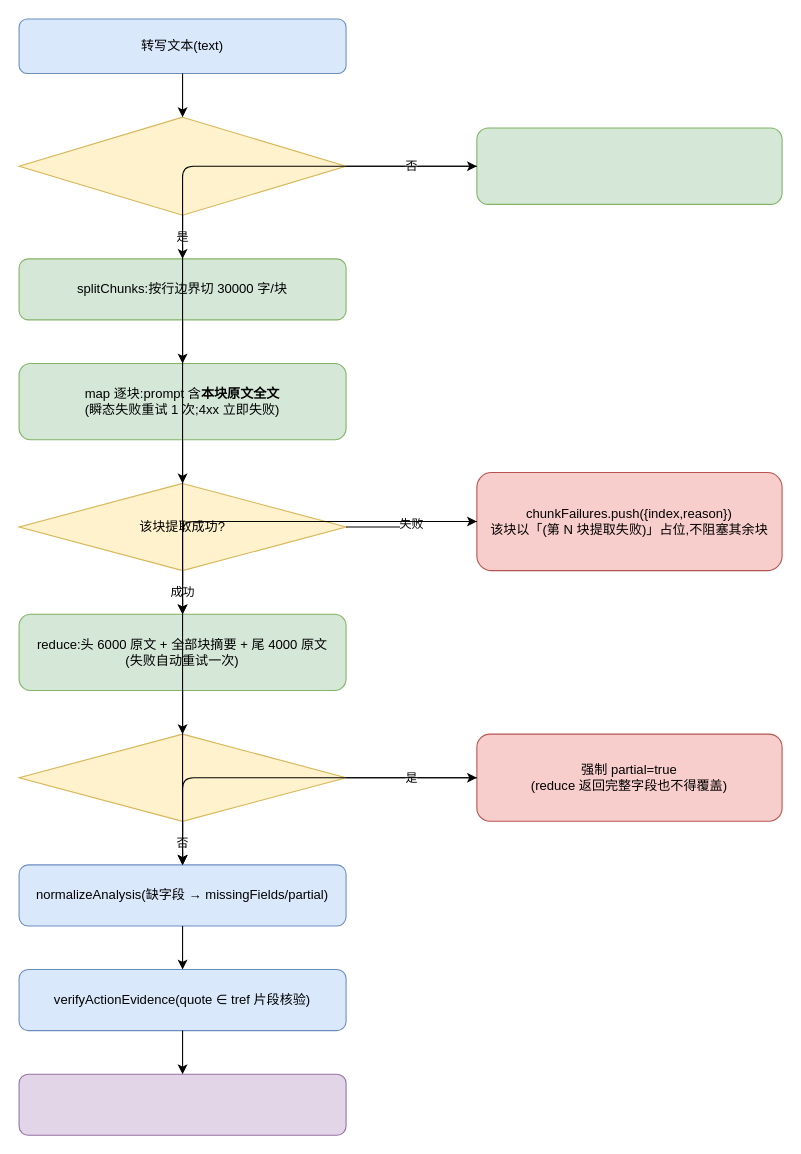
This 801x1154 diagram has some shape labels left out. Each missing label, with the centre of its shape:
"> 42000 字?" goes at point 182,165.
"chunkFailures 非空?" goes at point 182,777.
"单次 analyzeOnce (失败 3s 重试一次;4xx 立即失败)" goes at point 629,165.
"渲染:完整性横幅(第 N 块提取失败/partial)+ 证据警示" goes at point 182,1104.
